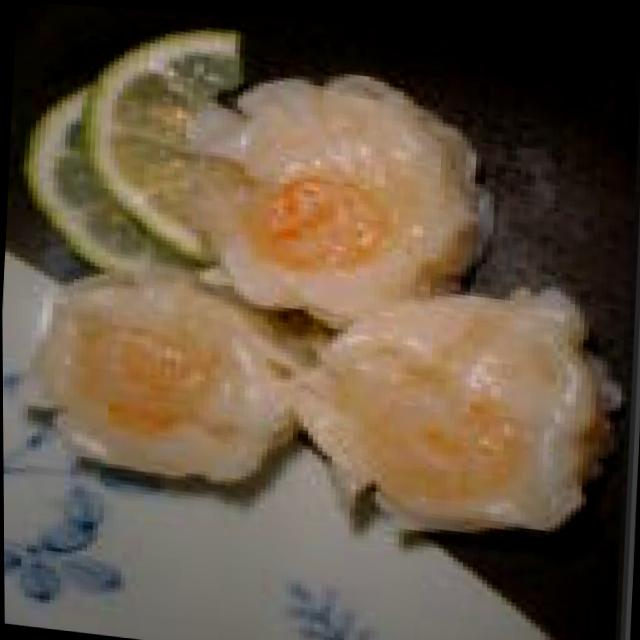带馅早点: (0, 40, 611, 542)
